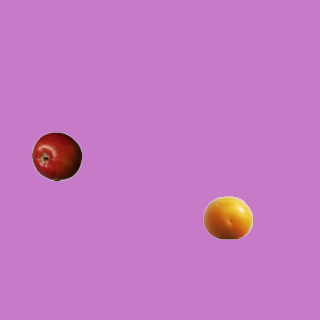Apple Braeburn: (31, 131, 81, 181)
Cherry Wax Yellow: (202, 192, 252, 242)
